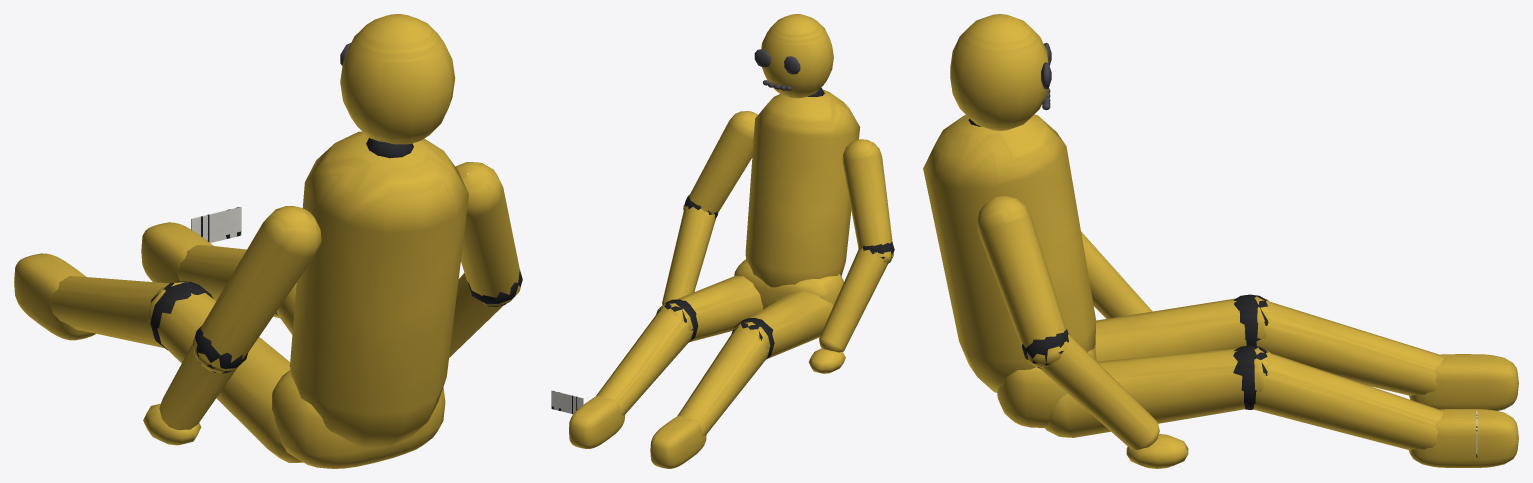
Rendered from v01_dummy.glb.
3 renders of one model, left to right at view 1: azimuth 30°, elevation 25°; view 2: azimuth 150°, elevation 25°; view 3: azimuth 270°, elevation 25°, orthographic. The views are drawn at different scales.
Visible parts, largest first — view 1: v01_dummy; view 2: v01_dummy; view 3: v01_dummy.
Boxes of the visible parts, box(x1,y1,x2,y2) form: v01_dummy: box(14, 14, 522, 468); v01_dummy: box(551, 14, 894, 468); v01_dummy: box(923, 14, 1518, 468).
Bounding box in the file's own units: 0.71 × 1.01 × 1.29.
4 materials, 3 textured.
